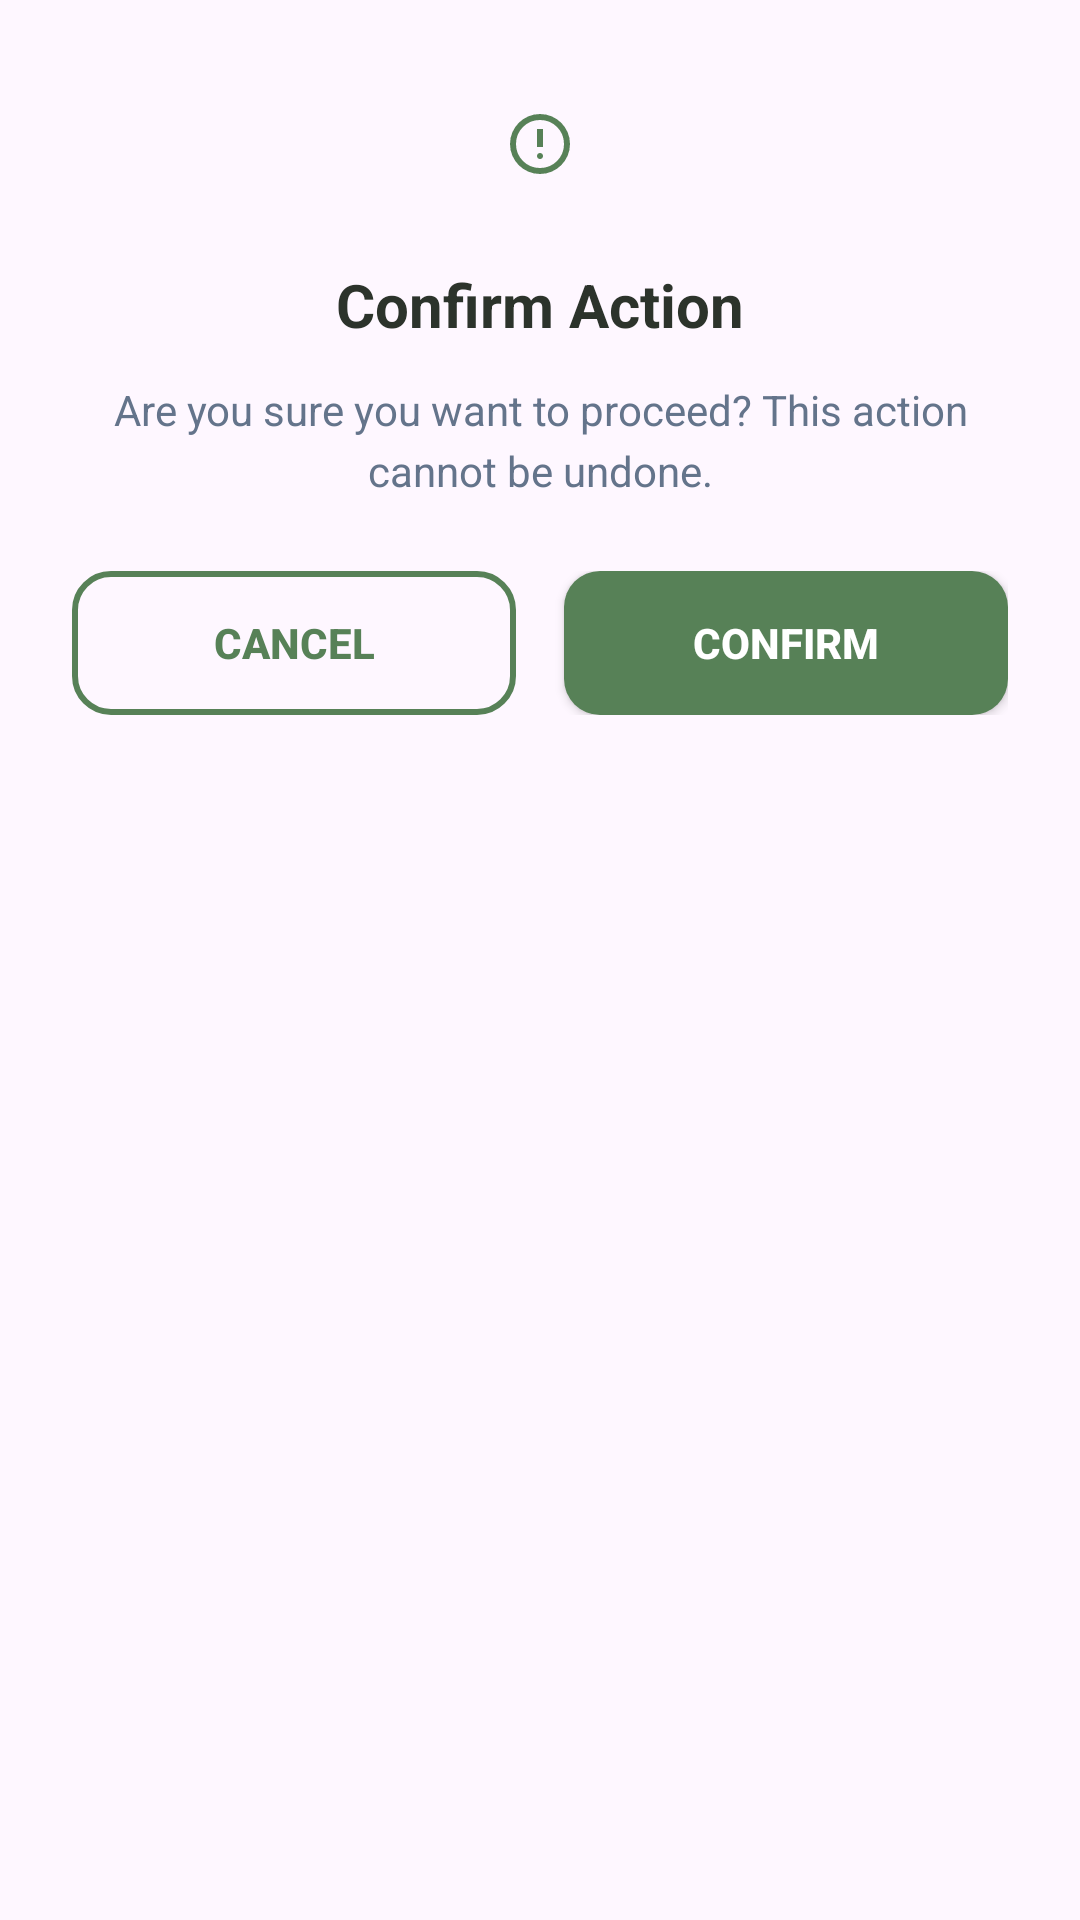

Icons on this 1080px x 1920px Android screen, each with its box as {"left": x1, "top": y1, "right": x2, "bottom": y2}:
warning: {"left": 510, "top": 114, "right": 570, "bottom": 174}
